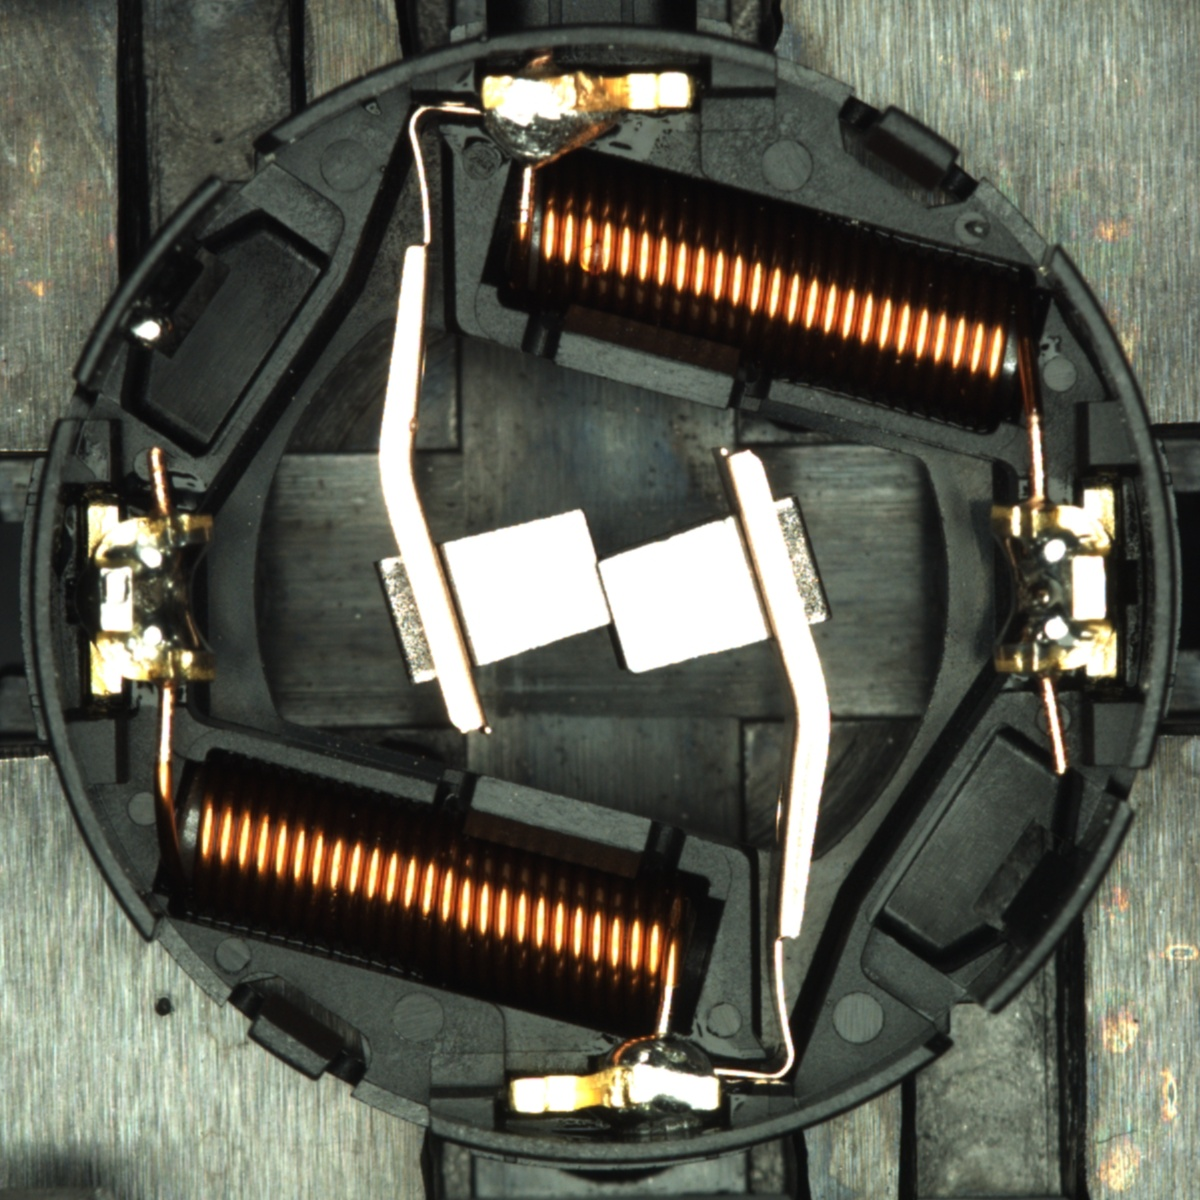1: (256, 31, 485, 255), (714, 929, 943, 1153)
2: (714, 31, 943, 255), (256, 929, 485, 1153)
3: (943, 703, 1173, 929)
4: (714, 703, 943, 929), (256, 255, 485, 479)
5: (485, 815, 714, 1041), (485, 143, 714, 367)
6: (256, 703, 485, 929), (714, 255, 943, 479)
7: (26, 703, 256, 929), (943, 255, 1173, 479)
cacbon: (398, 498, 801, 685)
chau_dien: (81, 497, 222, 699), (982, 486, 1123, 685)
hat_chi: (126, 308, 176, 355)
tay_choi: (480, 69, 698, 170), (510, 1026, 722, 1119)
thanh_de: (955, 786, 1143, 1031)
